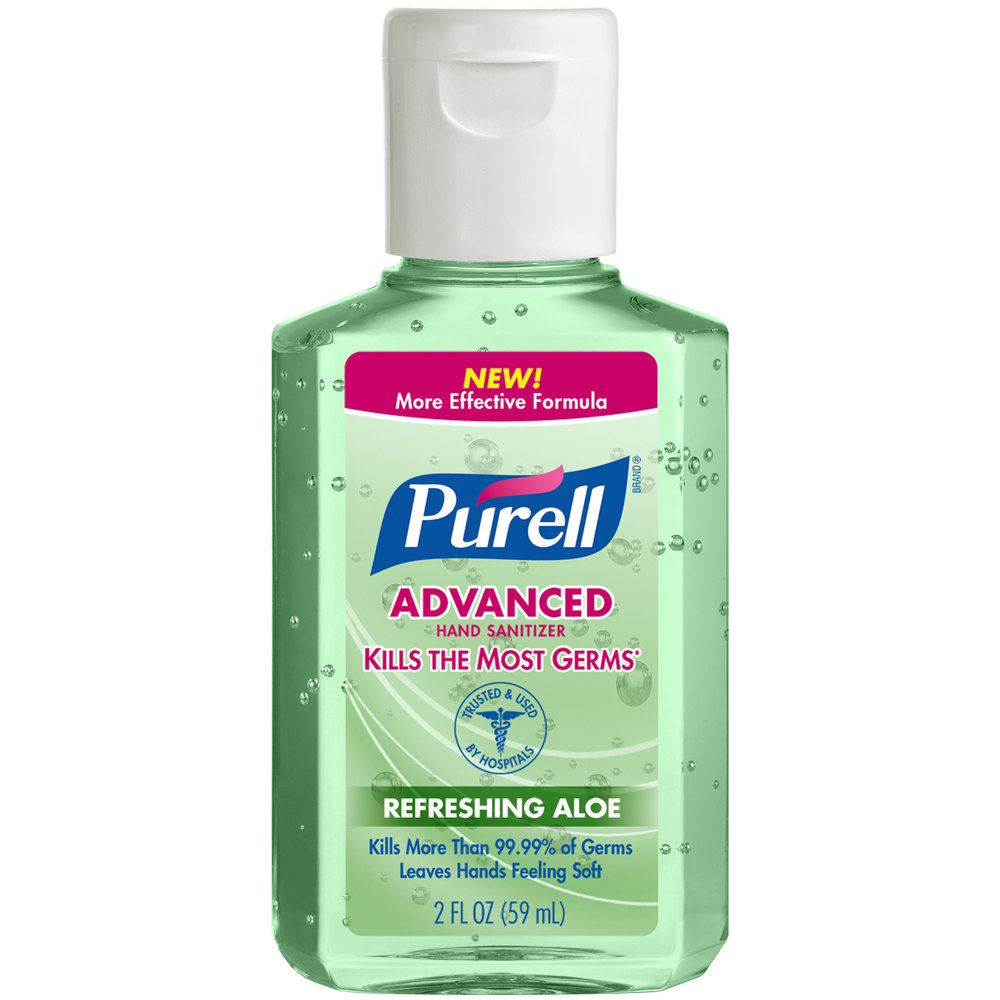Sanitizer: (262, 2, 738, 996)
